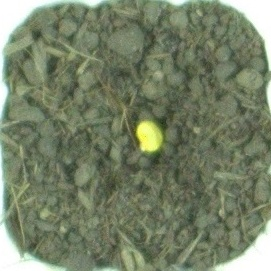chilli seed: (134, 119, 166, 153)
